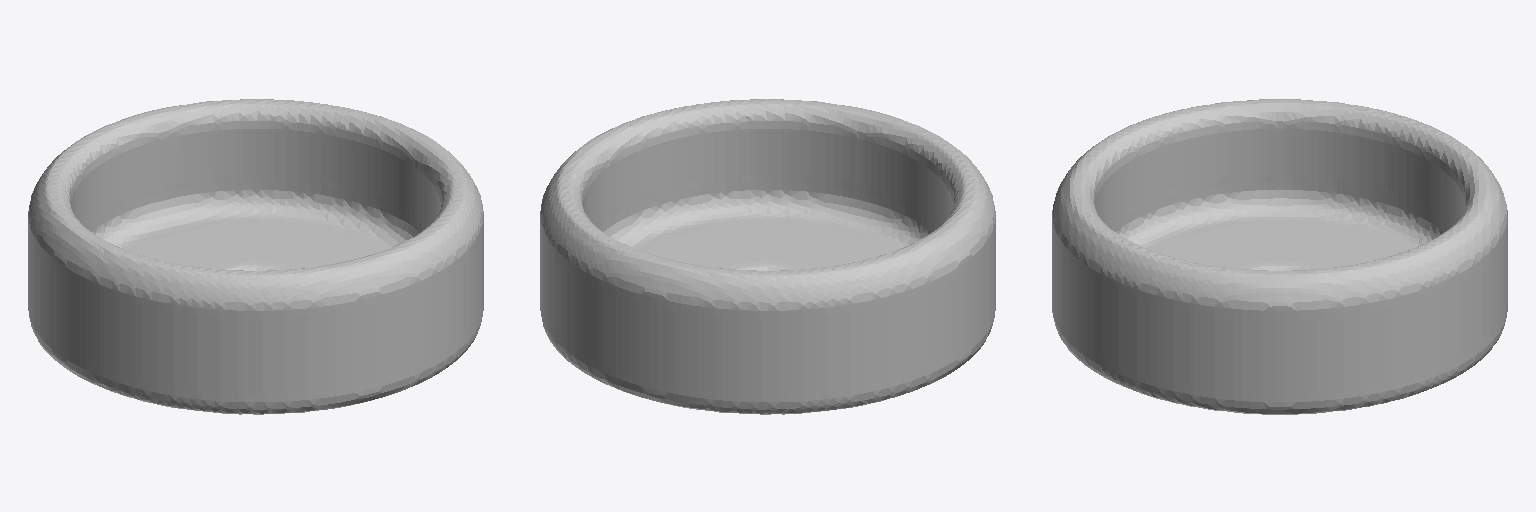
The model's file is Bowl.obj.
3 views of the same model, side by side, from view 1: azimuth 30°, elevation 25°; view 2: azimuth 150°, elevation 25°; view 3: azimuth 270°, elevation 25° (orthographic).
Bounding box in the file's own units: 40.6 × 13.61 × 40.6.